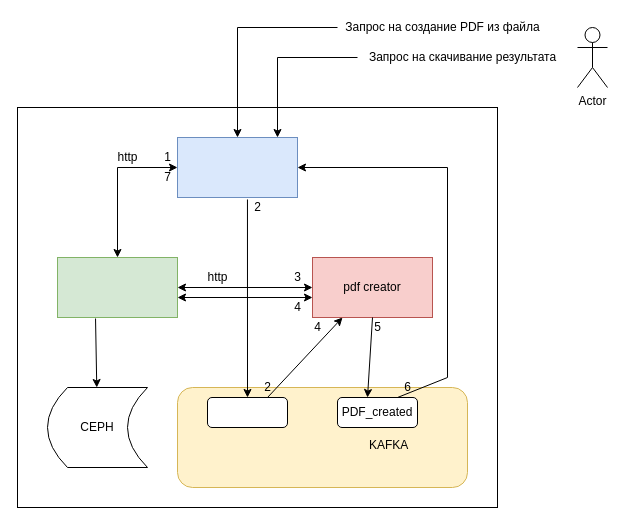
This 625x525 diagram has some shape labels left out. Each missing label, with the centre of its shape:
"create_PDF" belongs at [247,412].
"file manager" belongs at [117,287].
"request manager" belongs at [237,167].
